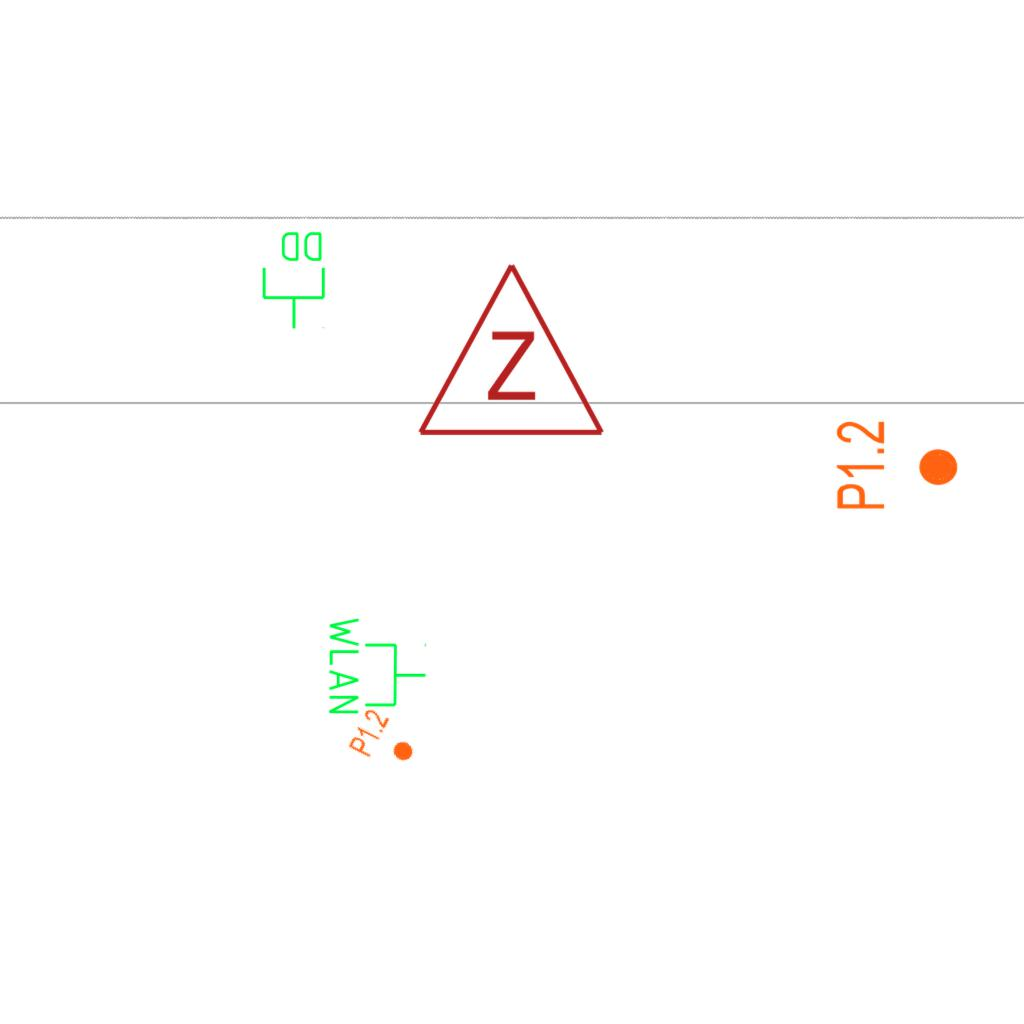Datenanschluss_zweifach: (260, 228, 329, 331)
Downlight_LED_Einbauleuchten_Flur: (833, 419, 961, 512), (346, 705, 424, 777)
WLAN: (325, 613, 429, 718)
Zimmersignalleuchte: (411, 250, 607, 450)
